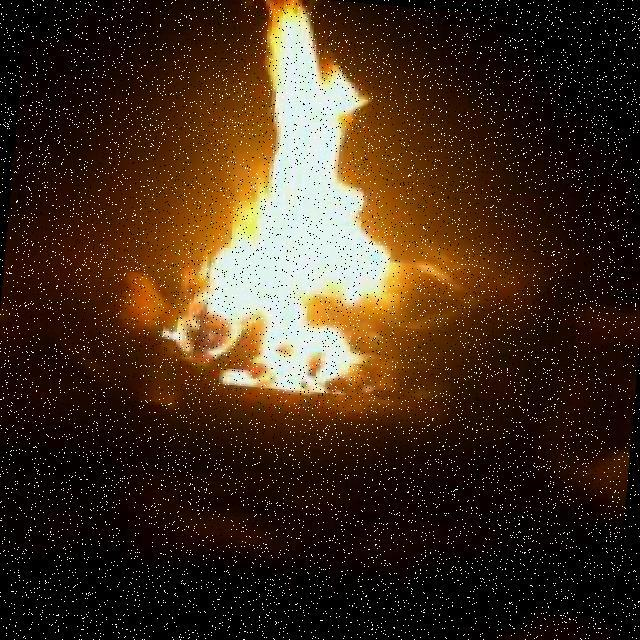Fire: (160, 0, 435, 407)
